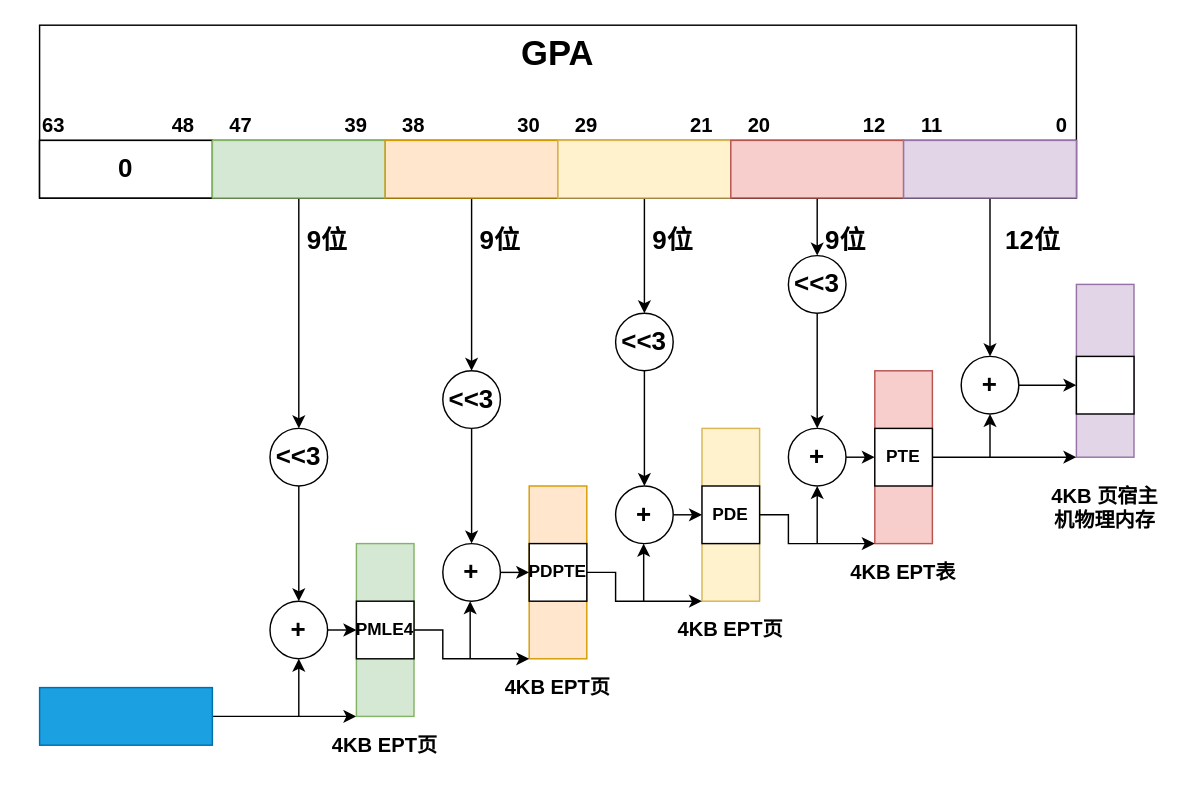
The diagram is 1187 pixels wide and 785 high, and some of its shapes have lost their labels. The centre of each missing label's shape, as x and y in pixels:
"EPTP" belongs at point 125,715.
"HPA" belongs at point 1104,384.
